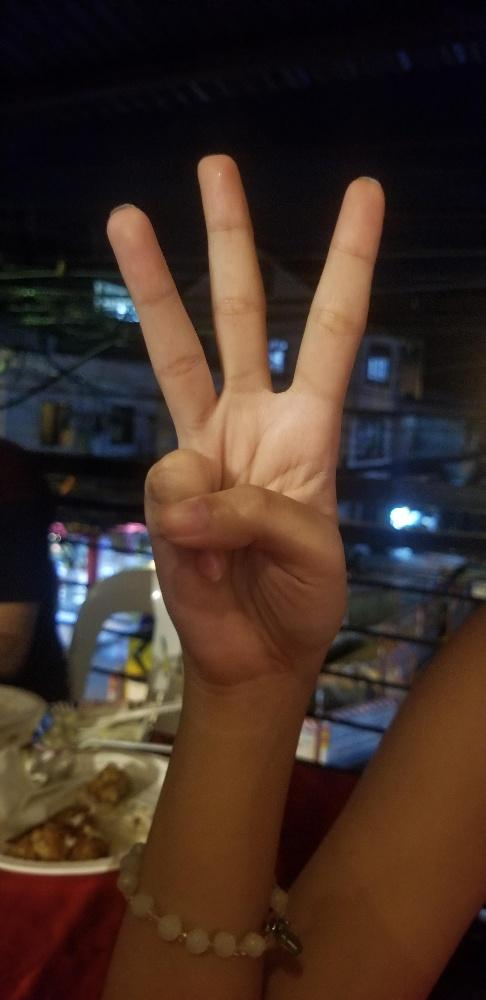w: (103, 151, 385, 665)
